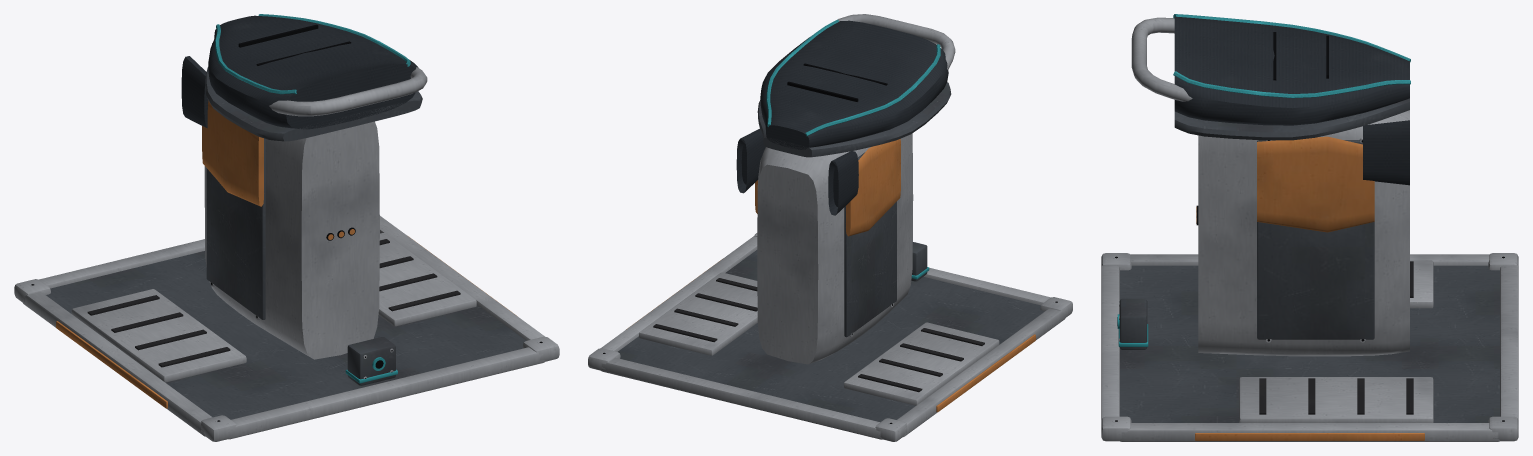
File: saddle_3.glb
3 views of the same model, side by side, from view 1: azimuth 30°, elevation 25°; view 2: azimuth 150°, elevation 25°; view 3: azimuth 270°, elevation 25° (orthographic). The views are drawn at different scales.
Visible parts, largest first — view 1: Base, Cushion, SaddlePan; view 2: Base, Cushion, SaddlePan; view 3: Base, Cushion, SaddlePan.
Boxes of the visible parts, x1,y1,x2,y2 form: Base: (14,56,559,441); Cushion: (208,14,418,129); SaddlePan: (205,43,422,141); Base: (588,14,1072,441); Cushion: (760,19,948,149); SaddlePan: (757,82,951,157); Base: (1101,17,1518,441); Cushion: (1173,14,1410,125); SaddlePan: (1174,98,1409,140).
Bounding box in the file's own units: 0.718 × 0.593 × 0.71.
Materials: 8 (6 with a texture image).
